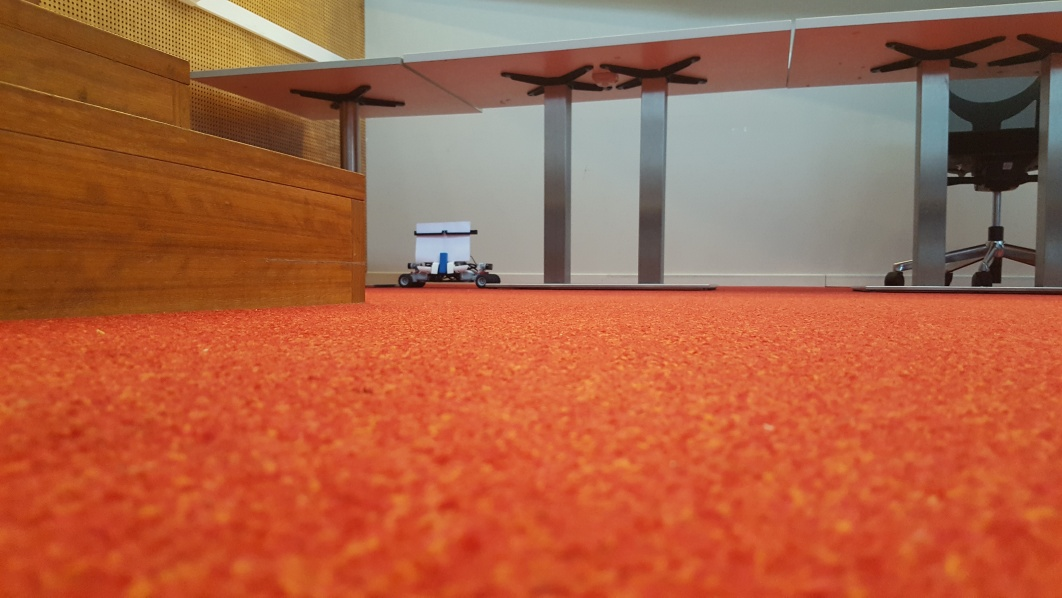car: (398, 218, 500, 292)
